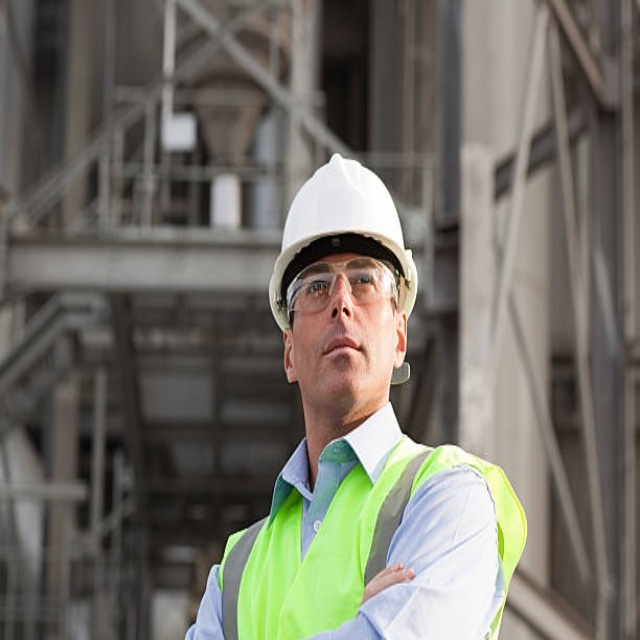Gafas: (284, 259, 398, 323)
Sin_mascara: (315, 331, 368, 386)
